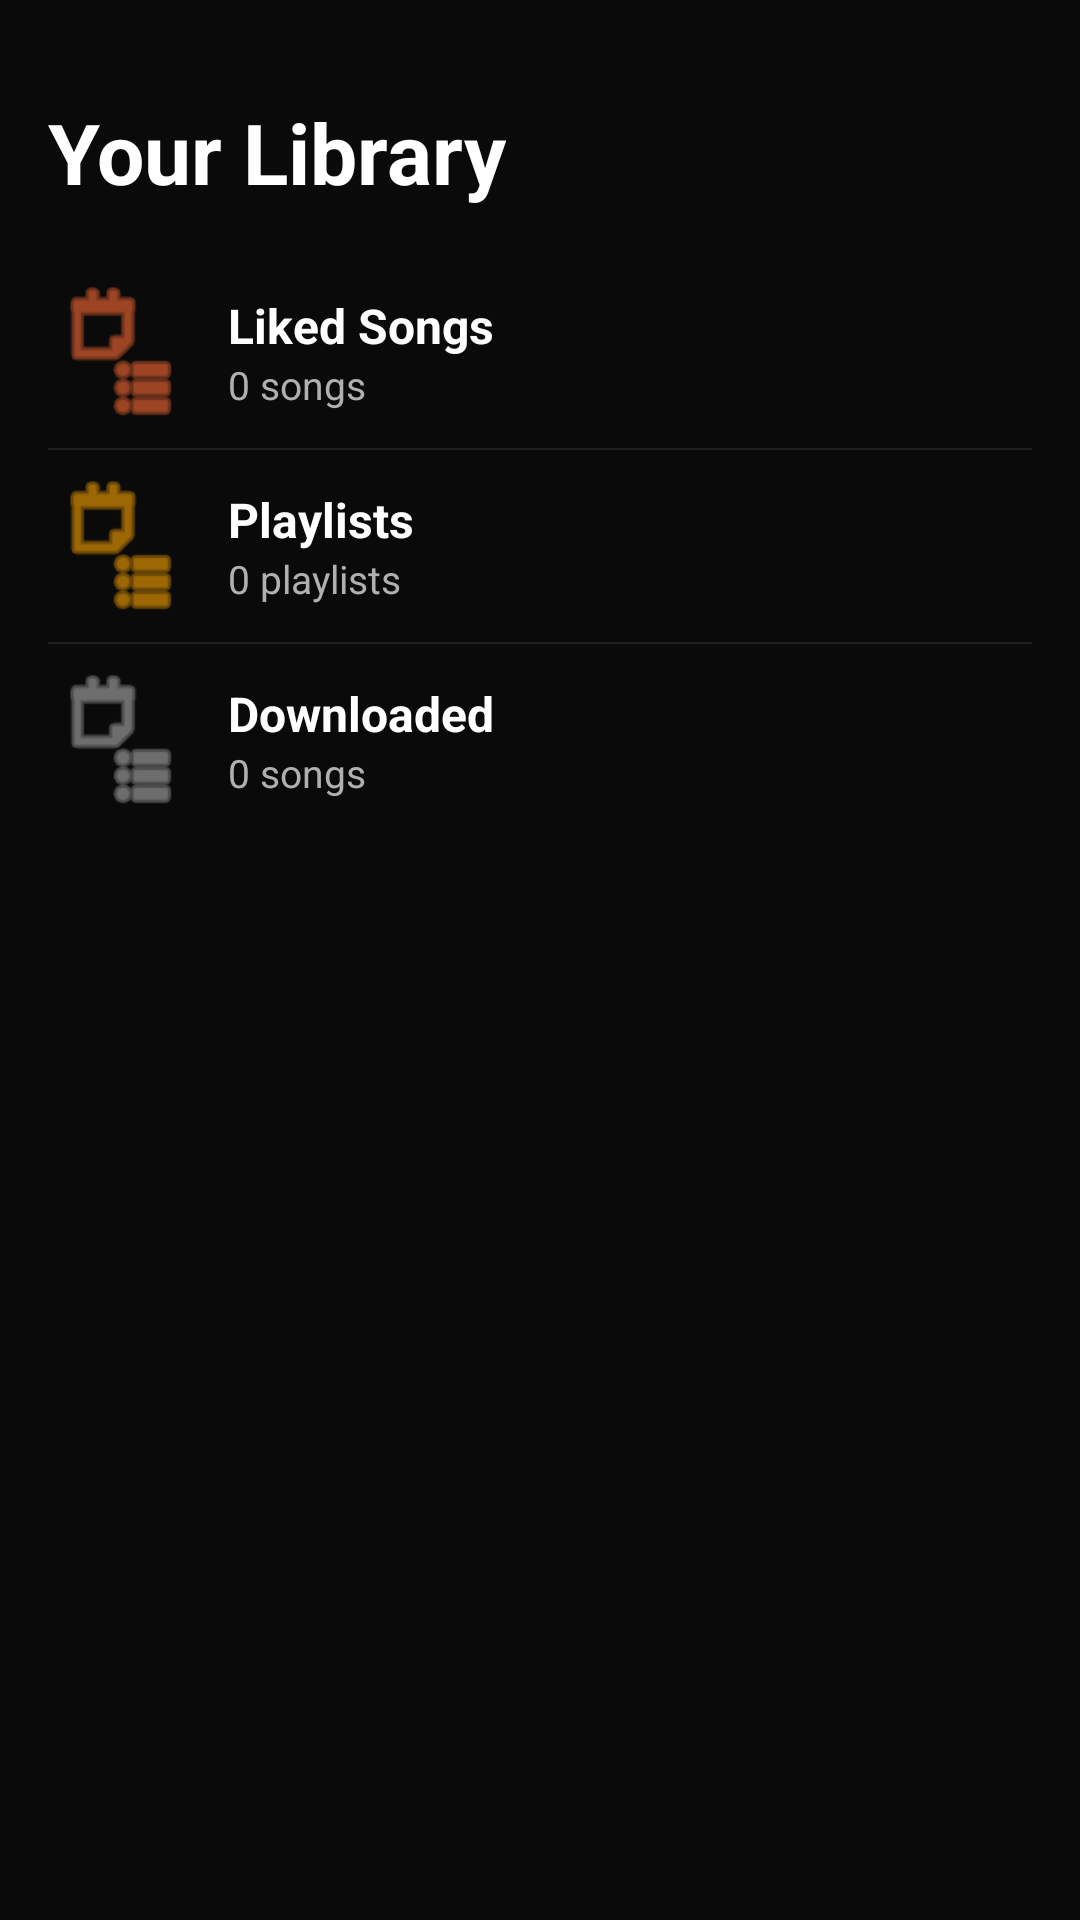

Named icons in this screenshot (1080×1920) and their bounding boxes, (x1, y1, x2, y2):
agenda: (70, 287, 171, 415), (70, 481, 171, 609), (70, 675, 171, 803)
